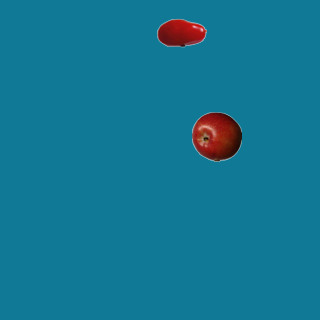Apple Braeburn: (191, 111, 241, 161)
Tomato 2: (156, 7, 206, 57)
